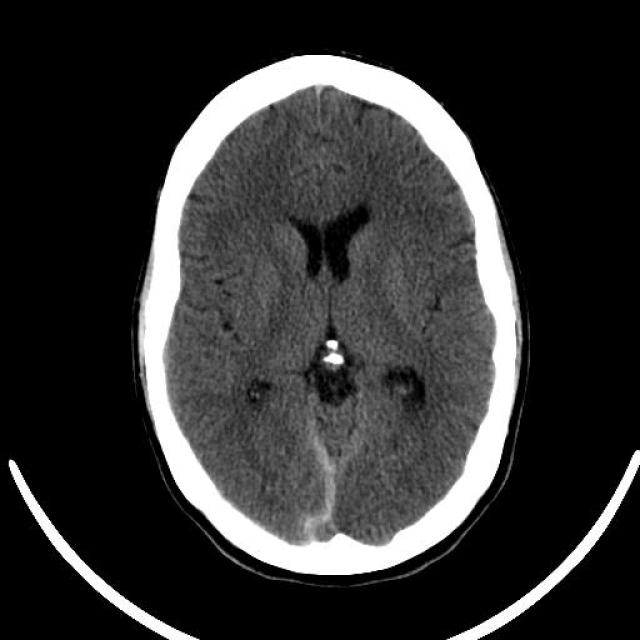Subdural: (296, 431, 370, 570)
